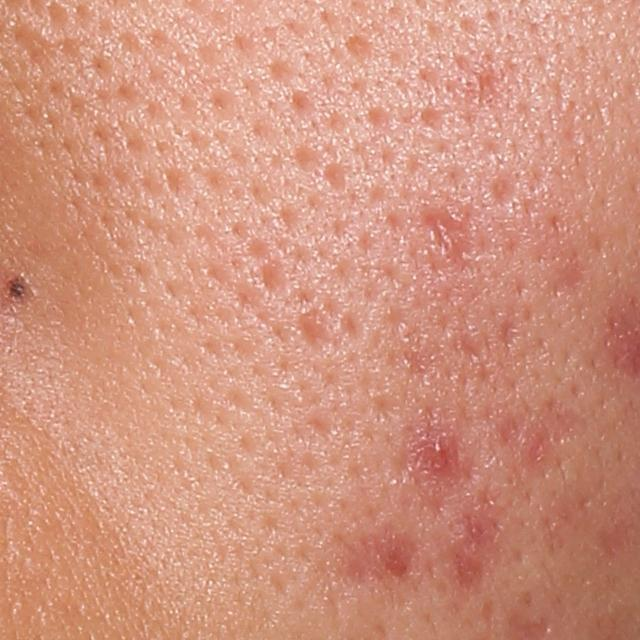atrophic_scar: (329, 532, 420, 591), (424, 209, 479, 279), (457, 58, 504, 108), (12, 27, 57, 75), (258, 261, 292, 305), (297, 309, 332, 350), (342, 31, 377, 56), (488, 175, 514, 206), (321, 163, 346, 190)
nevus: (2, 271, 31, 307)
papule: (424, 438, 459, 474)
